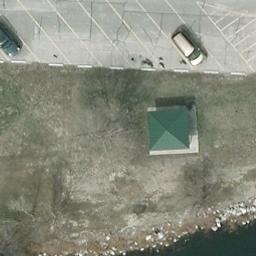car: (173, 32, 209, 70), (0, 24, 21, 57)
